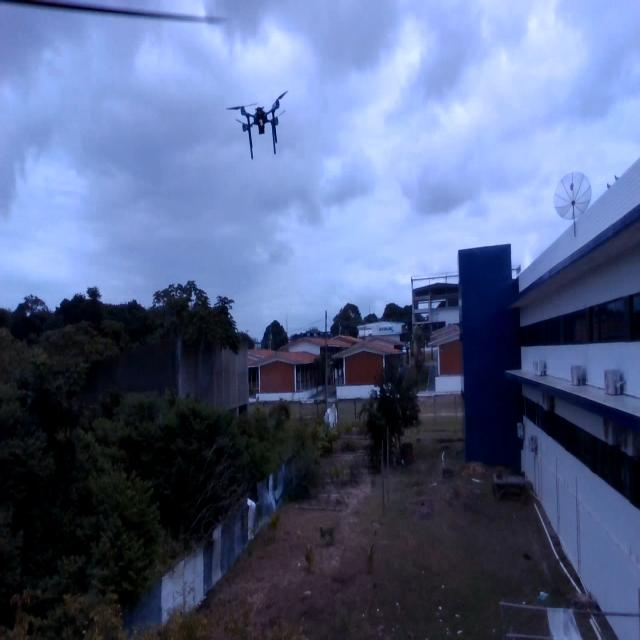-uav-: (218, 77, 295, 164)
